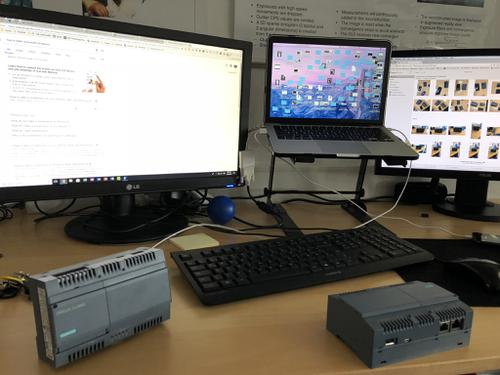device: (29, 247, 173, 369), (326, 281, 474, 370)
